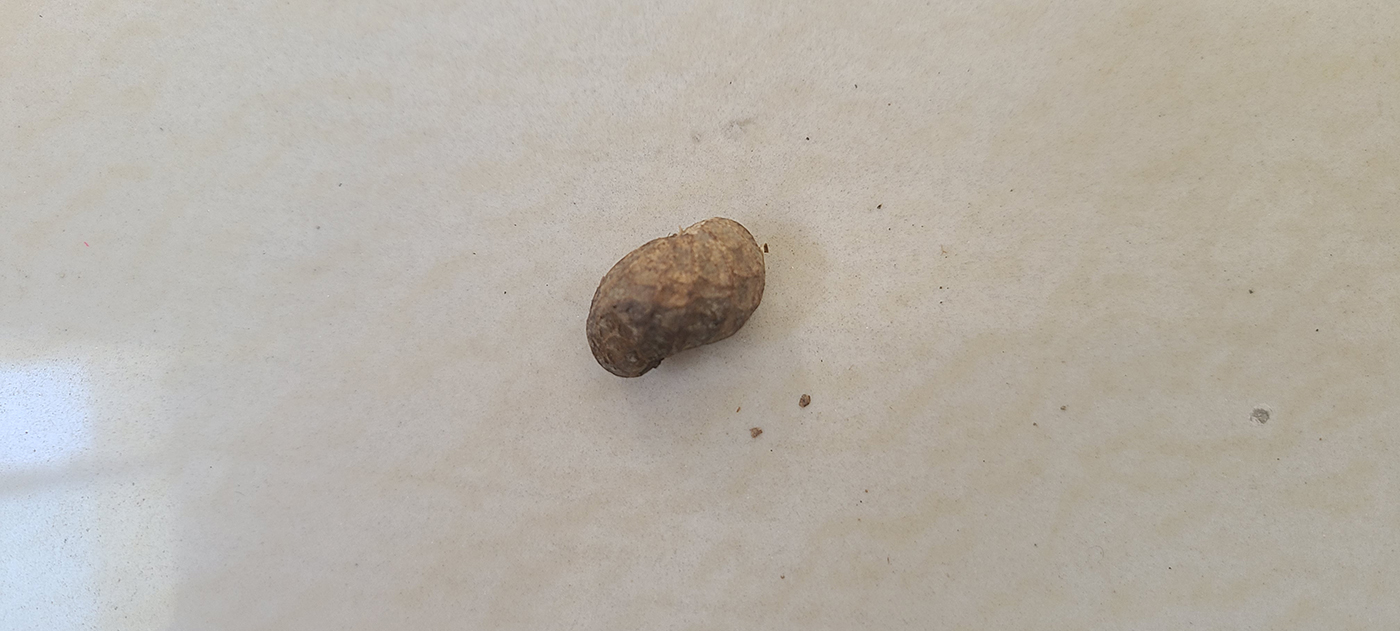l: (580, 214, 767, 379)
